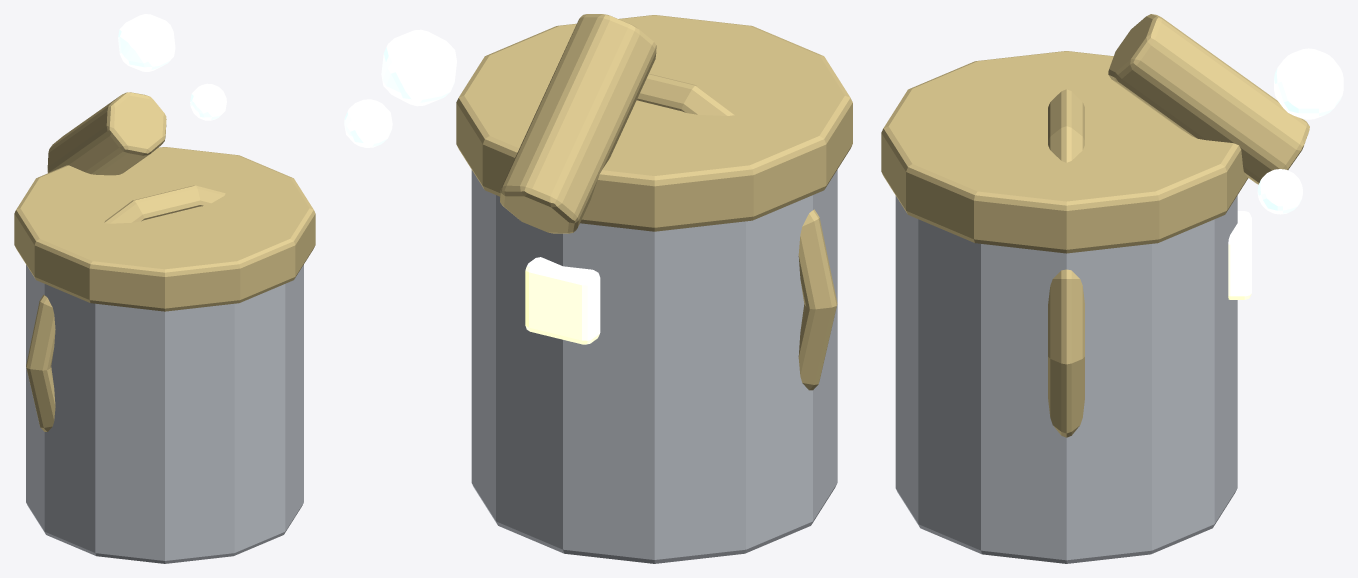
Rendered from turret_mist.glb.
3 renders of one model, left to right at view 1: azimuth 30°, elevation 25°; view 2: azimuth 150°, elevation 25°; view 3: azimuth 270°, elevation 25°, orthographic. The views are drawn at different scales.
Visible parts, largest first — view 1: turret_mist; view 2: turret_mist; view 3: turret_mist.
Part boxes in pixels (box(x1,y1,x2,y2)): turret_mist: box(14, 14, 315, 563); turret_mist: box(344, 14, 852, 563); turret_mist: box(881, 14, 1343, 563).
Size of the model in its own units: 0.5678 by 0.763 by 0.6489.
